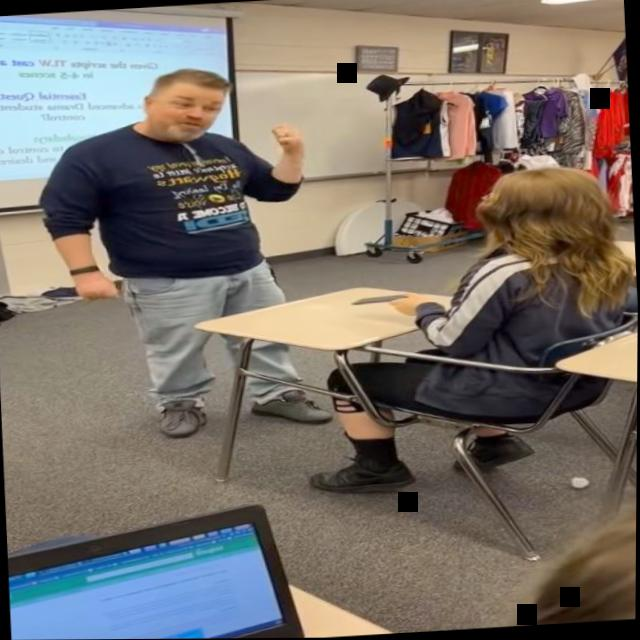NO-Mask: (143, 78, 233, 144)
